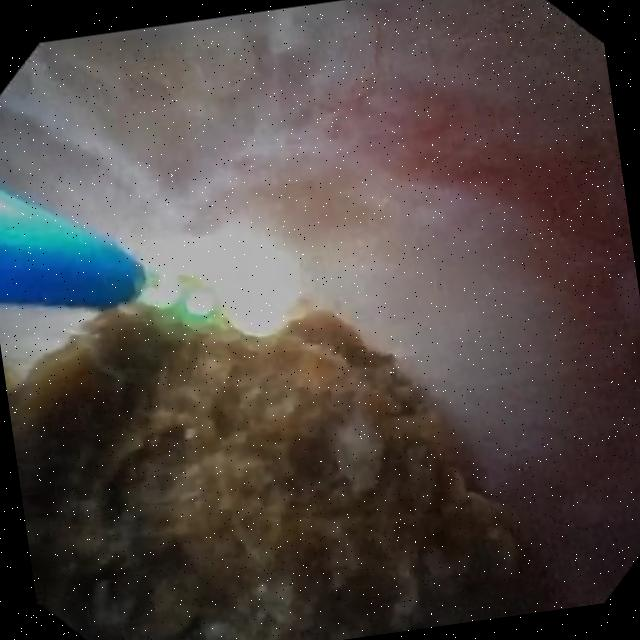stone-new: (9, 277, 521, 640)
